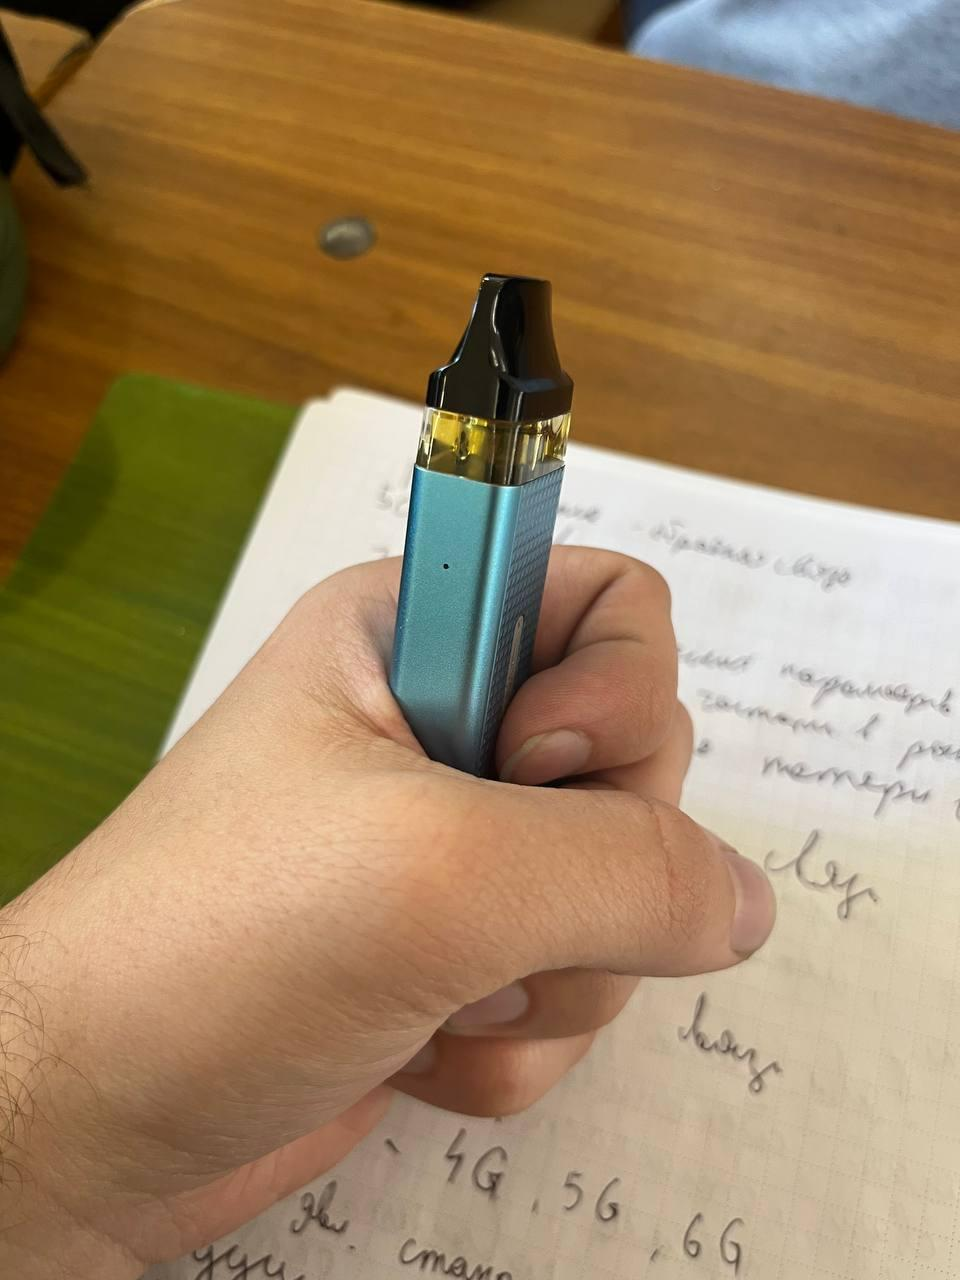Vape: (390, 275, 572, 776)
